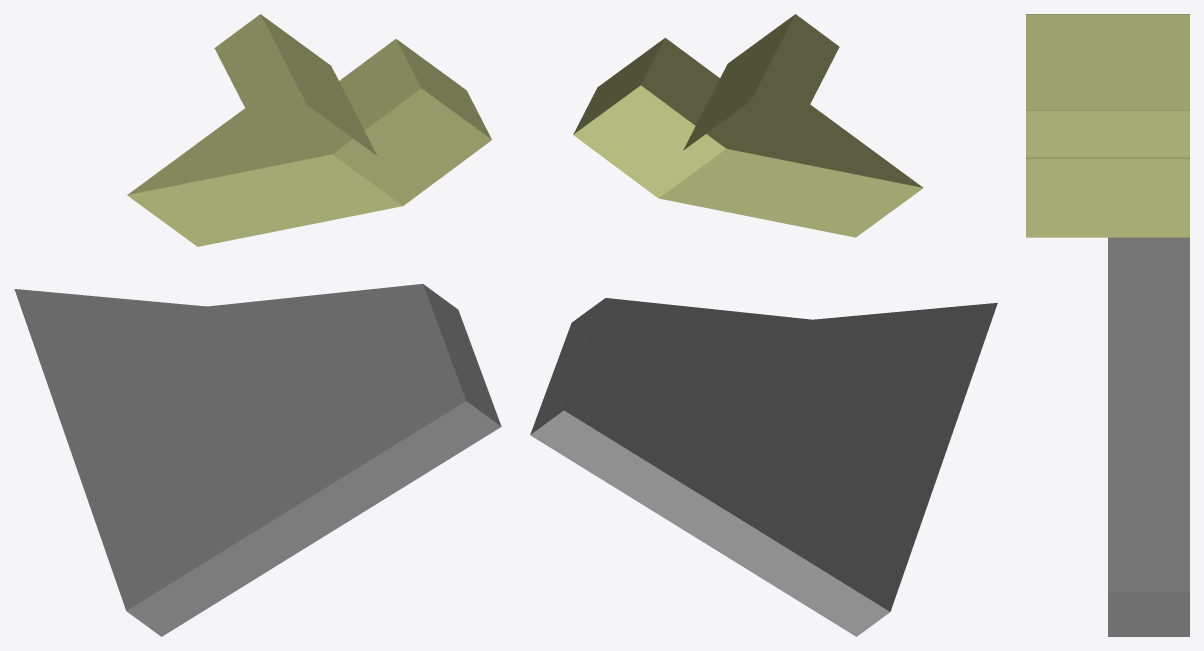
3 renders of one model, left to right at view 1: azimuth 30°, elevation 25°; view 2: azimuth 150°, elevation 25°; view 3: azimuth 270°, elevation 25°, orthographic. The views are drawn at different scales.
Parts seen in each view (by area): view 1: 0_1_1_3_3_0_0_3_0_2; view 2: 0_1_1_3_3_0_0_3_0_2; view 3: 0_1_1_3_3_0_0_3_0_2.
Boxes of the visible parts, x1,y1,x2,y2 form: 0_1_1_3_3_0_0_3_0_2: (14,14,501,636); 0_1_1_3_3_0_0_3_0_2: (530,14,997,636); 0_1_1_3_3_0_0_3_0_2: (1026,14,1189,636).
Bounding box in the file's own units: 22.14 × 26.42 × 6.
